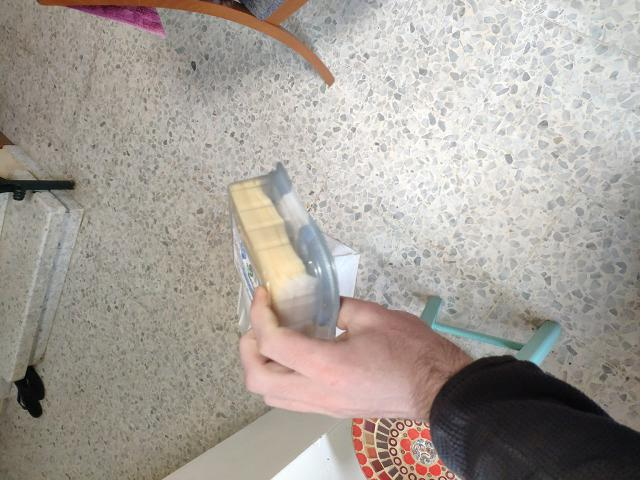cheese: (229, 150, 347, 413)
